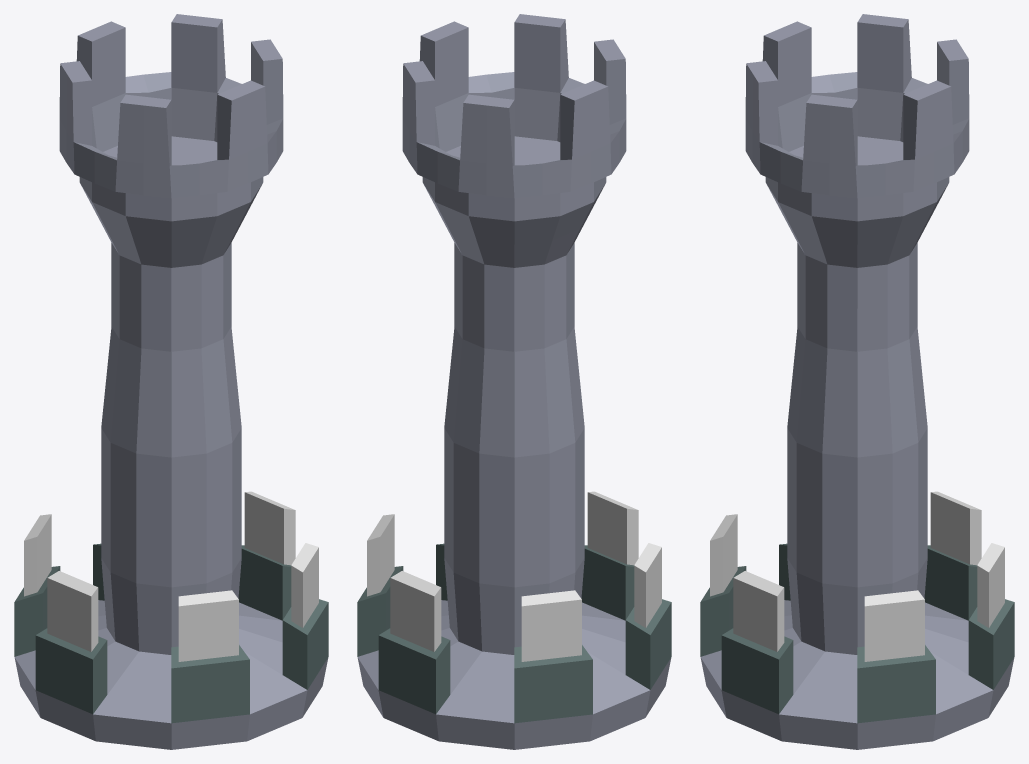
File: RuinedTower.glb
The picture shows the model from 3 angles, left to right: view 1: azimuth 30°, elevation 25°; view 2: azimuth 150°, elevation 25°; view 3: azimuth 270°, elevation 25°; orthographic projection.
Visible parts, largest first — view 1: Cylinder; view 2: Cylinder; view 3: Cylinder.
Part boxes in pixels (x1=…): Cylinder: x1=14, y1=14, x2=328, y2=749; Cylinder: x1=357, y1=14, x2=671, y2=749; Cylinder: x1=700, y1=14, x2=1014, y2=749.
Size of the model in its own units: 5.23 by 11.49 by 5.23.
